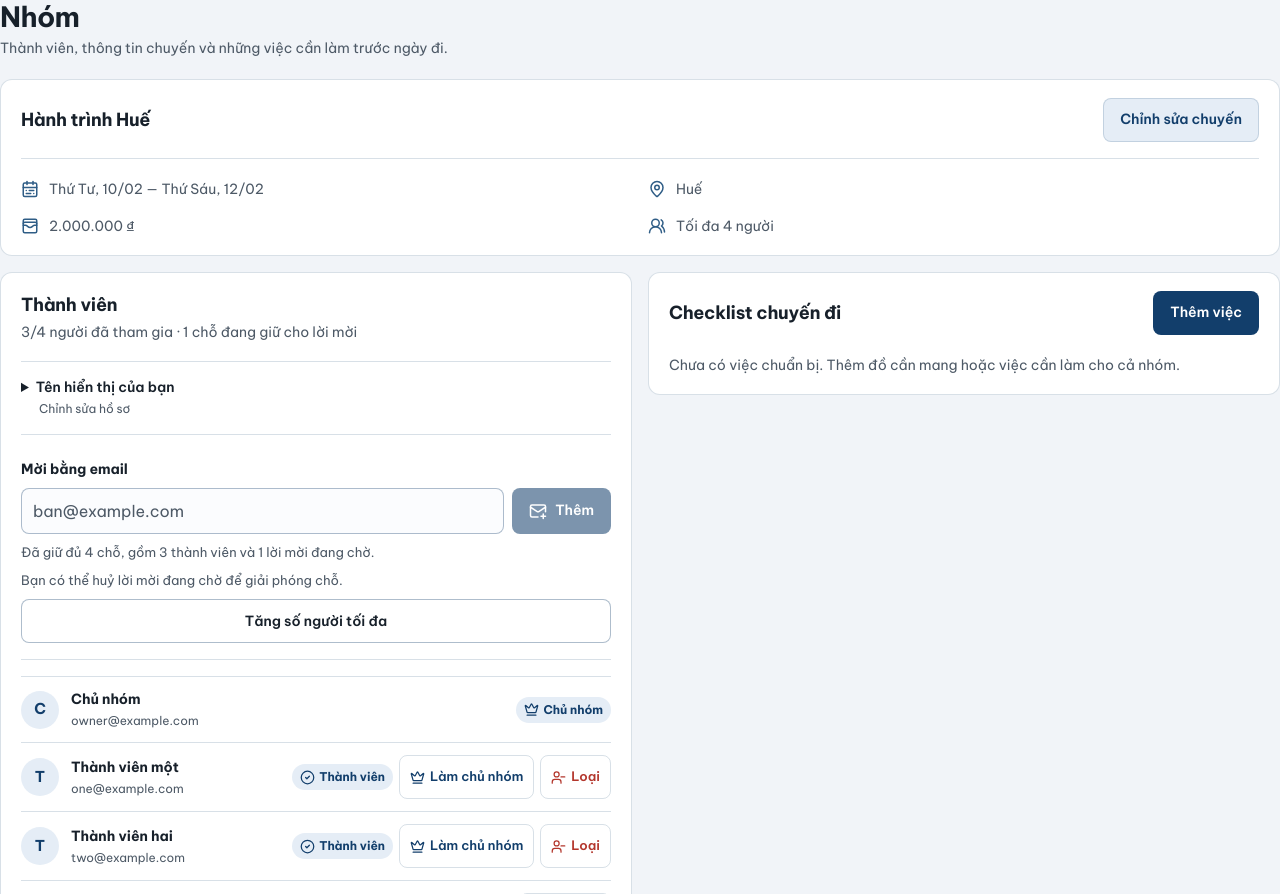
Test: GroupPage invitations › retains an owner draft and actionable error when saving fails
The width and height of the screenshot is (1280, 894).
Click the button "Chỉnh sửa chuyến": (1181, 120) [1103,98,1259,142]
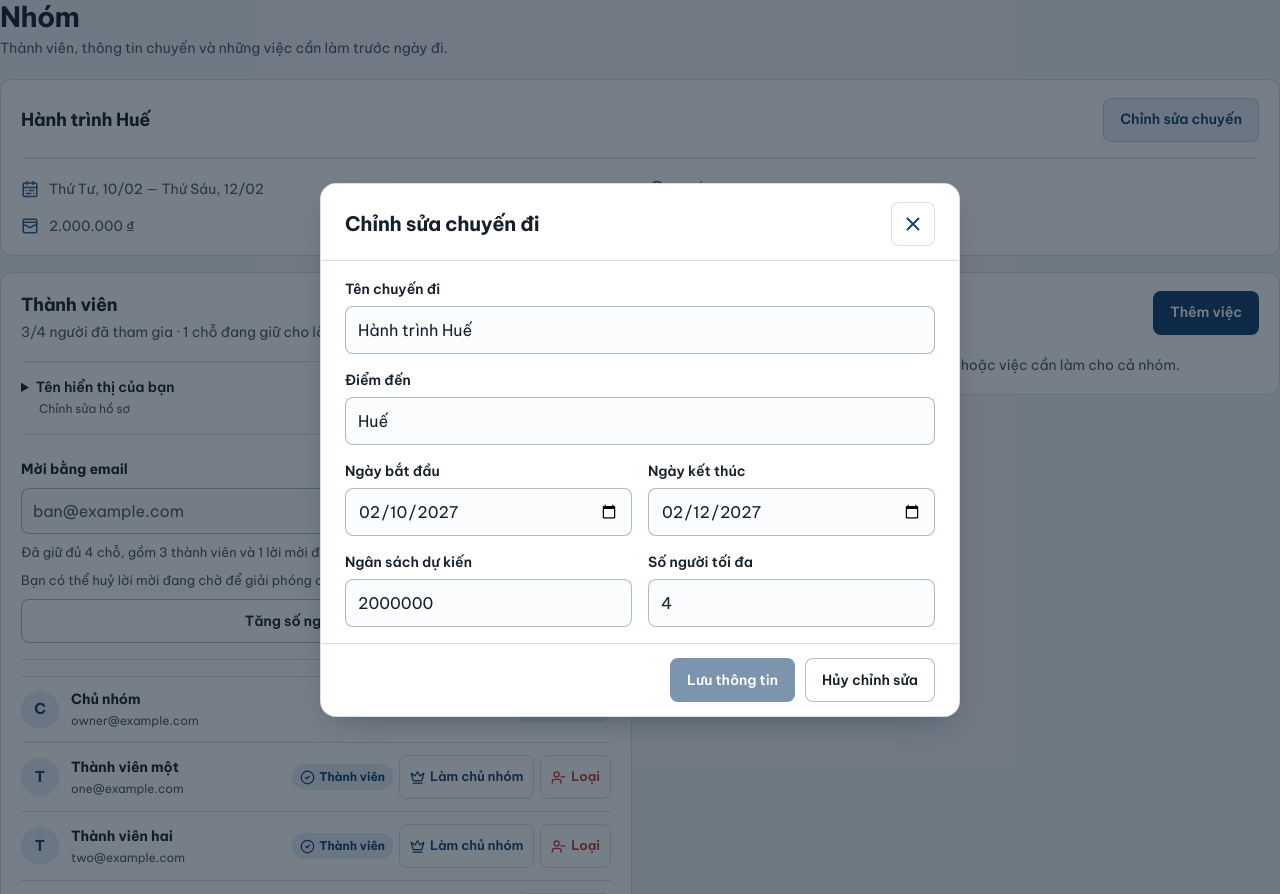
Replace the text in the field labelled "Điểm đến" with "Huế và vùng lân cận": (640, 421) [345,397,935,445]
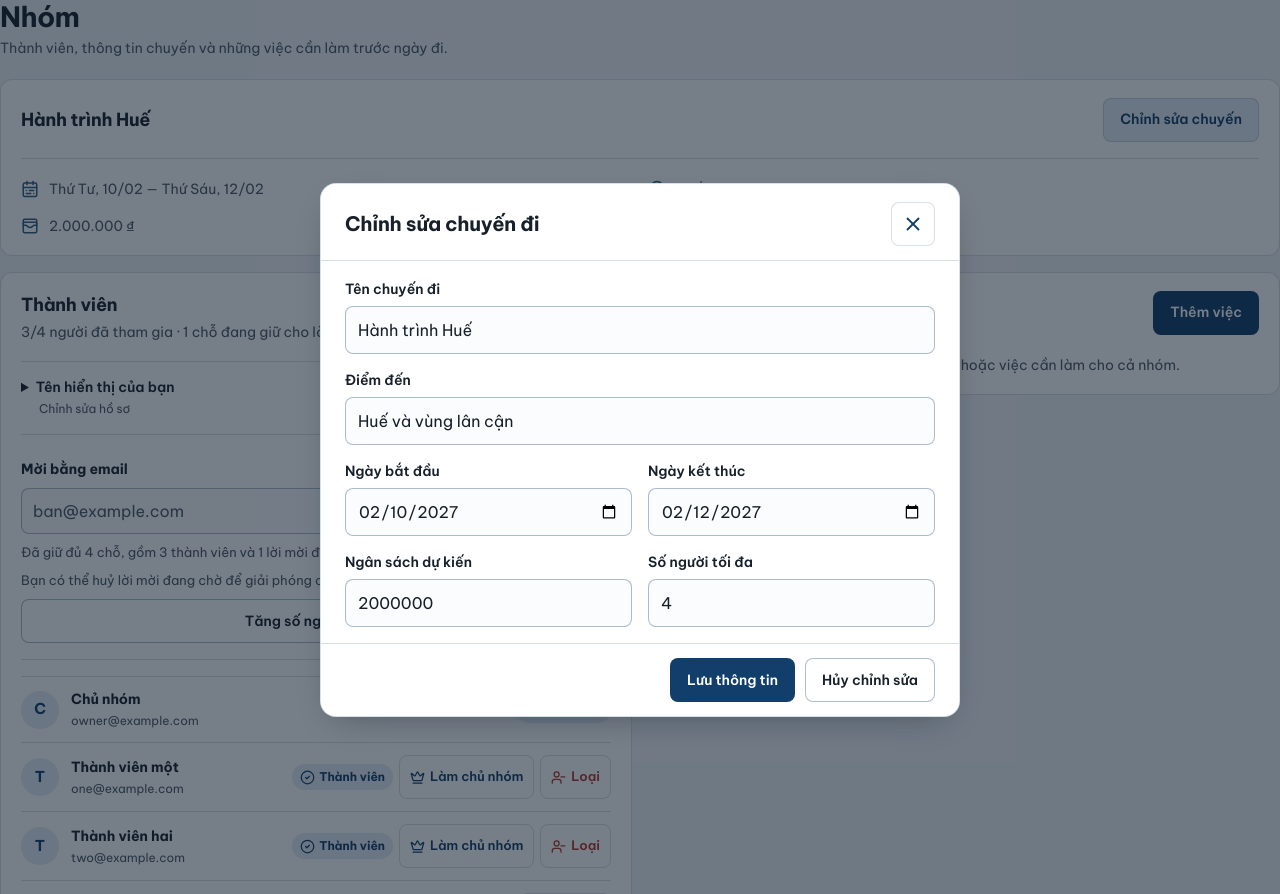
Click the button "Lưu thông tin": (732, 680) [670,658,795,702]
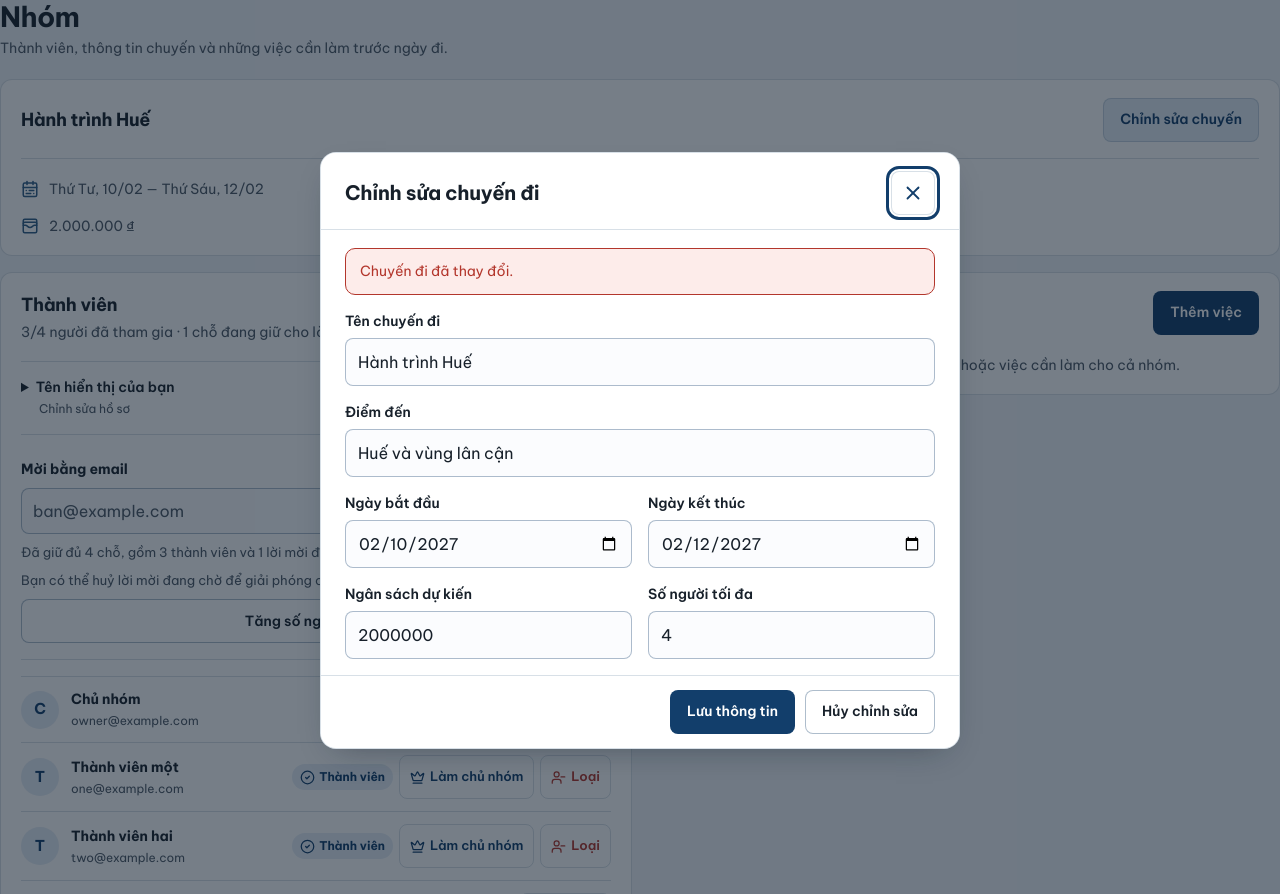
Check: the button "Lưu thông tin" is enabled, box [670,690,795,734]
Check: the message reads "Chuyến đi đã thay đổi.", box [360,262,513,280]
